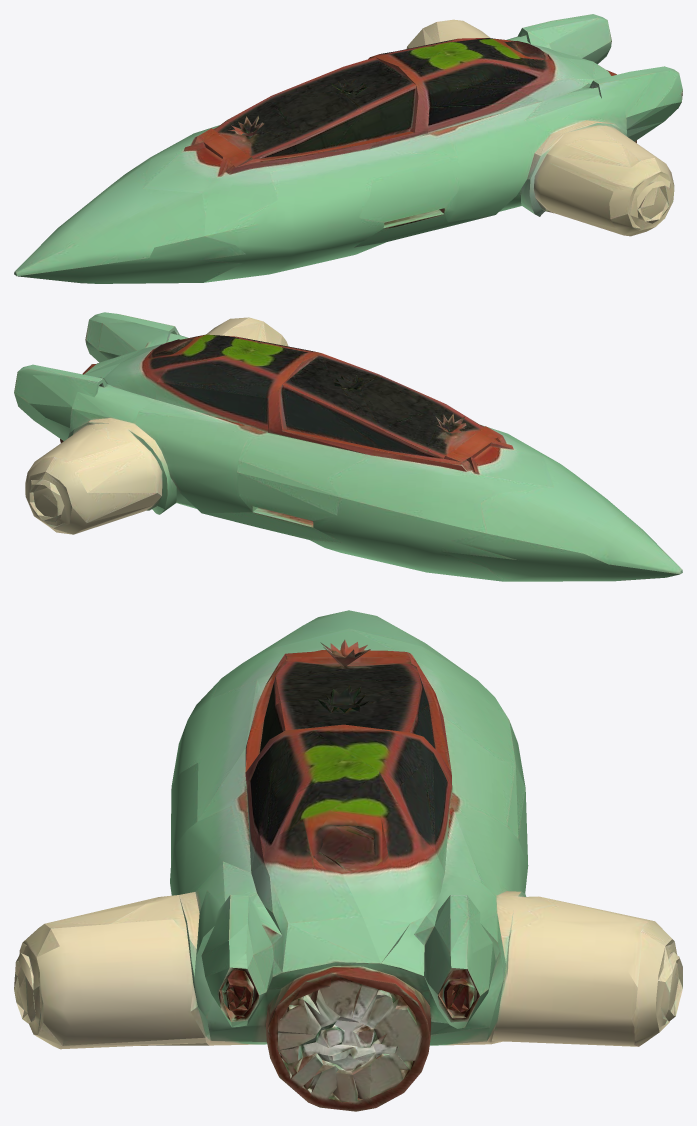
File: nation-l-scout.glb
3 views of the same model, one above another, from view 1: azimuth 30°, elevation 25°; view 2: azimuth 150°, elevation 25°; view 3: azimuth 270°, elevation 25° (orthographic). The views are drawn at different scales.
Bounding box in the file's own units: 1.89 × 0.4509 × 1.14.
1 material, 1 textured.
